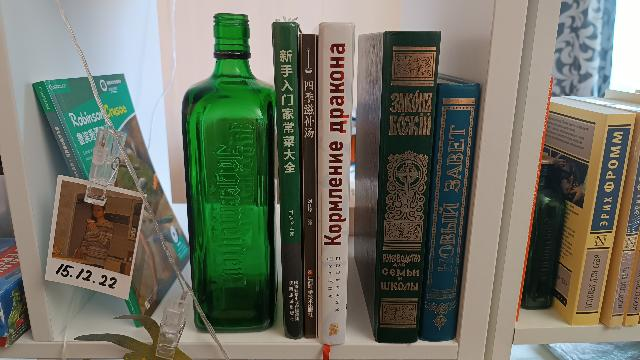book-s-spine: (33, 81, 144, 328), (373, 31, 441, 344), (421, 83, 480, 342), (571, 114, 636, 327), (318, 22, 356, 346), (272, 22, 303, 341), (609, 152, 640, 328), (301, 34, 317, 340), (625, 248, 640, 326)
